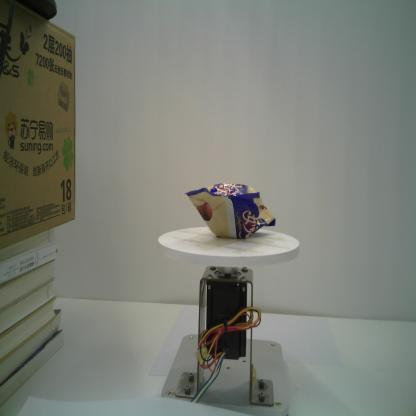Dessert: (184, 182, 276, 239)
